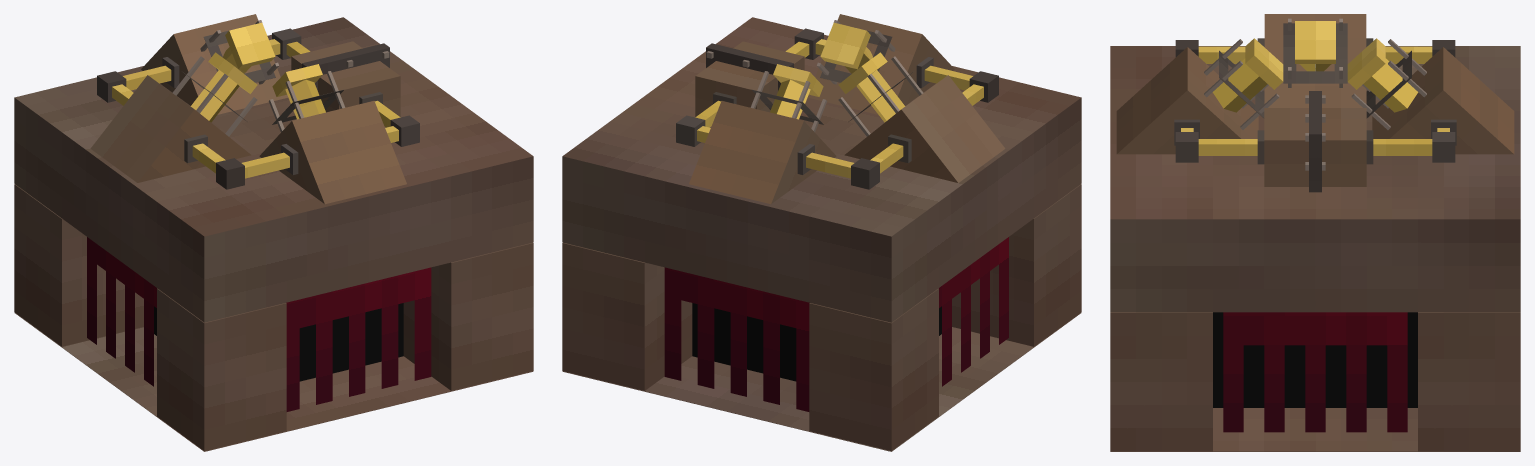
File: item_splitter.obj
The picture shows the model from 3 angles, left to right: view 1: azimuth 30°, elevation 25°; view 2: azimuth 150°, elevation 25°; view 3: azimuth 270°, elevation 25°; orthographic projection. The views are drawn at different scales.
Size of the model in its own units: 1 by 0.8564 by 1.
